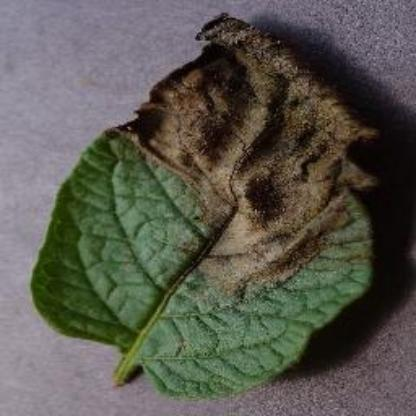Late-Blight: (29, 15, 381, 401)
